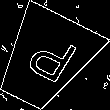P_SW: (14, 29, 77, 91)
